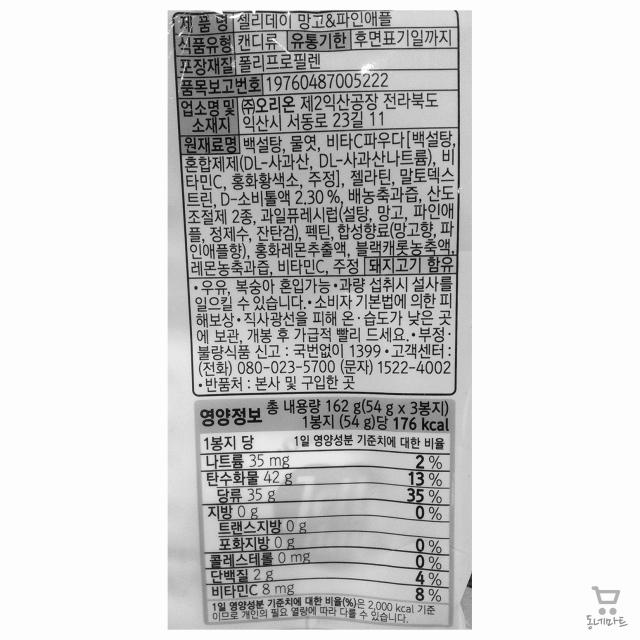Nutrition Label: (189, 395, 466, 629)
